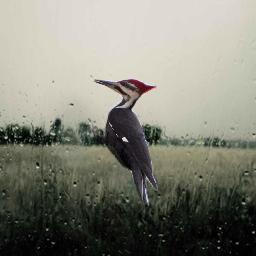Woodpecker: (92, 79, 158, 206)
